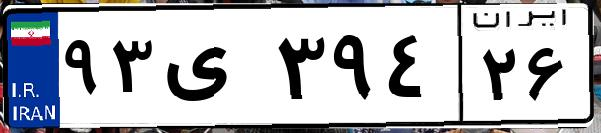2: (475, 38, 525, 113)
3: (270, 28, 330, 110), (110, 28, 158, 98)
4: (385, 28, 445, 110)
6: (525, 38, 570, 115)
9: (330, 28, 385, 110), (57, 26, 110, 100)
ی: (158, 20, 270, 120)
